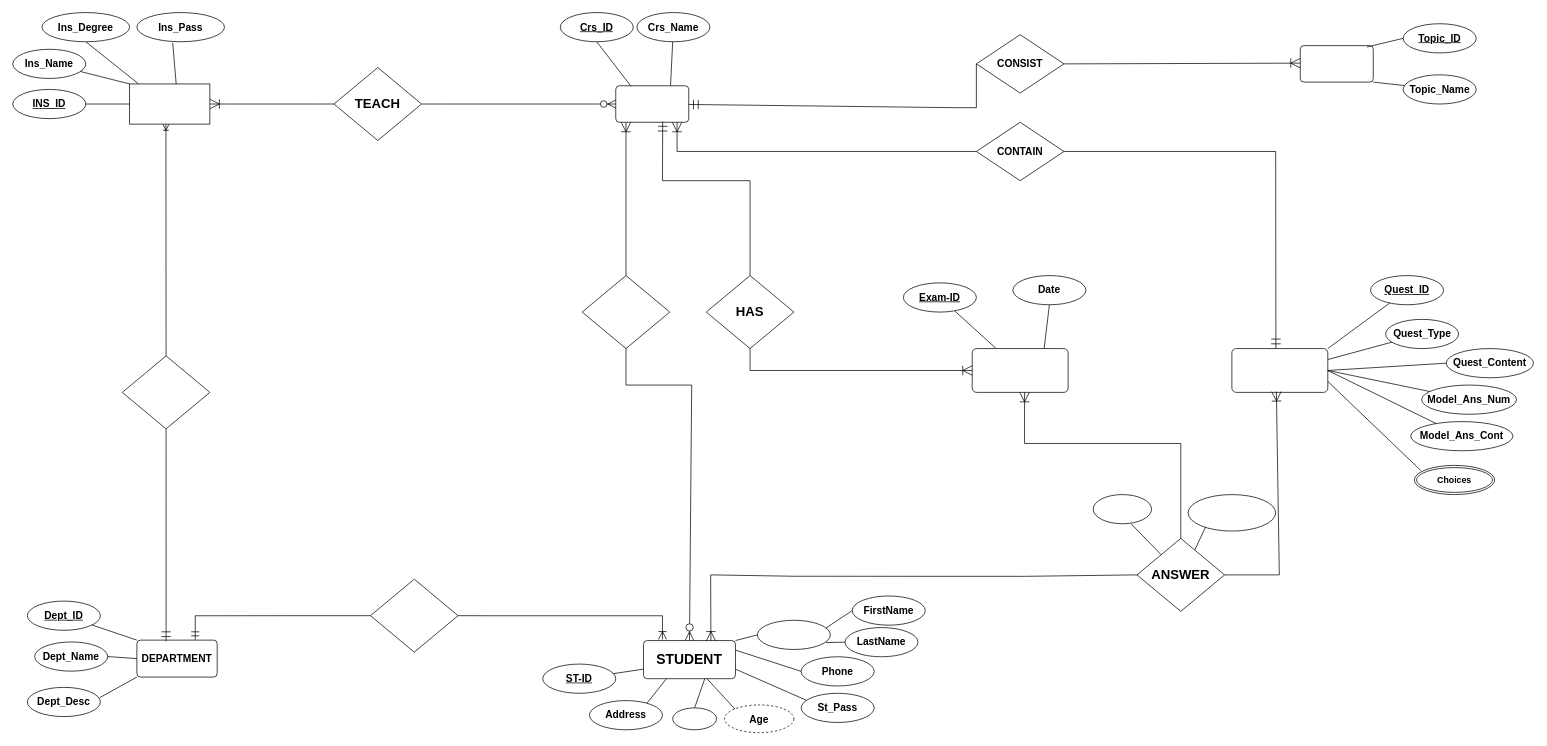
Image size: 1547x746. Some labels were removed from this diagram. Here are the shapes that lost their labels. From the top down, the centre of each, then its label:
At point 1336,63: "TOPICS".
At point 169,103: "INSTRACTORS".
At point 652,103: "COURSES".
At point 625,312: "ENROLL".
At point 1019,370: "EXAM".
At point 1279,370: "Questions".
At point 166,392: "WORKS FOR".
At point 1122,509: "Grade".
At point 1231,512: "St_Answer".
At point 414,615: "REGISTER".
At point 793,634: "ST_Name".
At point 694,718: "DOB".
